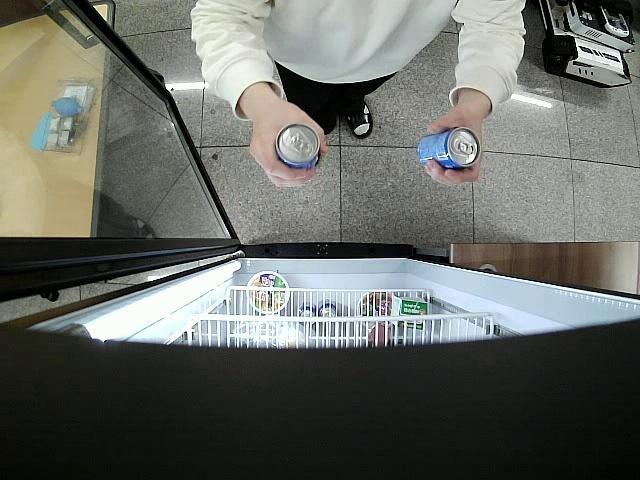15_letsbe: (416, 127, 482, 172), (276, 123, 320, 168)
